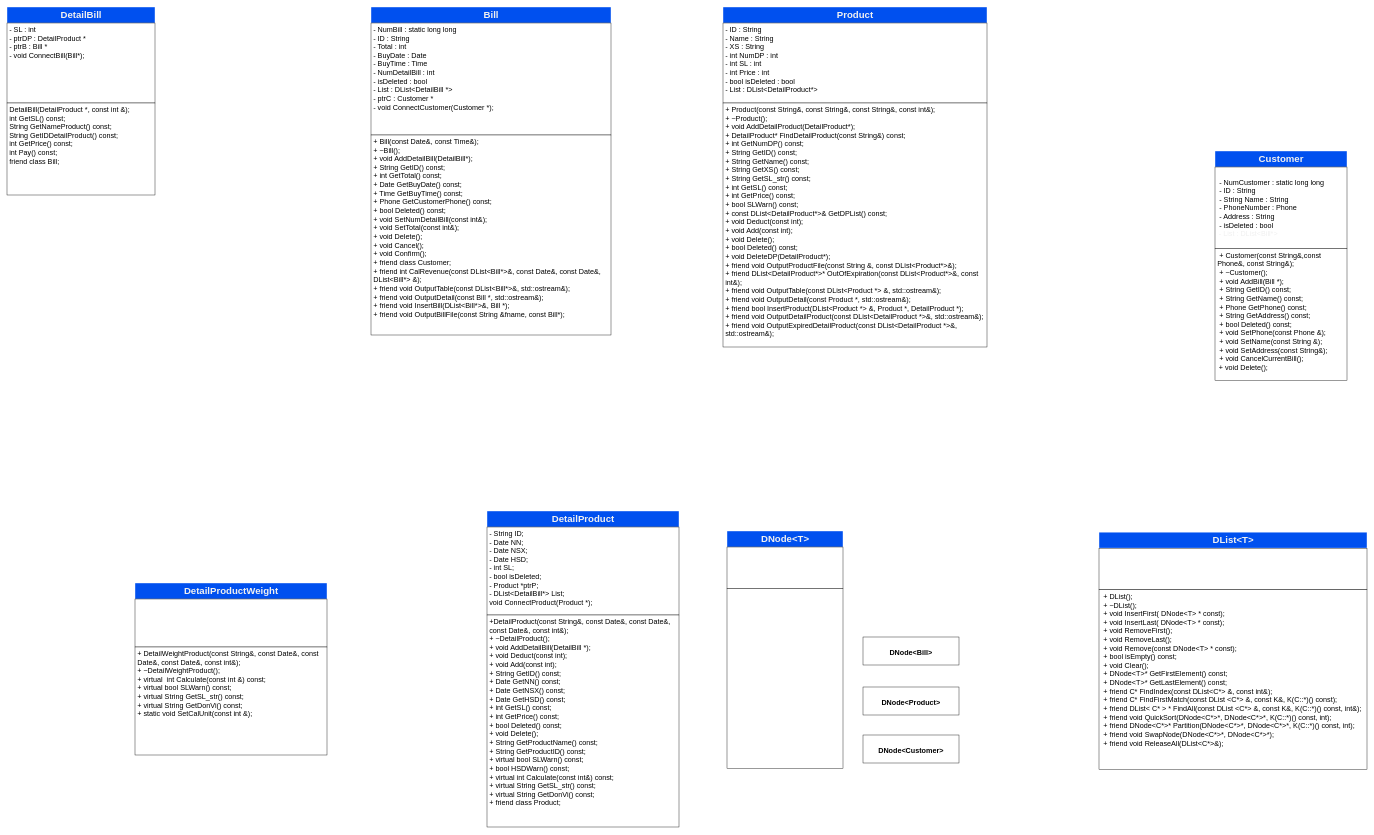
Some shapes in this 1374 by 835 pixel diagram are drawn without their labels. The shapes that lost their labels are listed below. From the top down, each one's centre as x and y in pixels, then its label:
[785,568]: - data: T - next: DNode* - pre: DNode*
[1233,569]: - Head: DNode<T> * - Tail: DNode<T> *
[231,623]: - CalUnit : static int
[785,678]: + DNode(const T&) + ~DNode()
